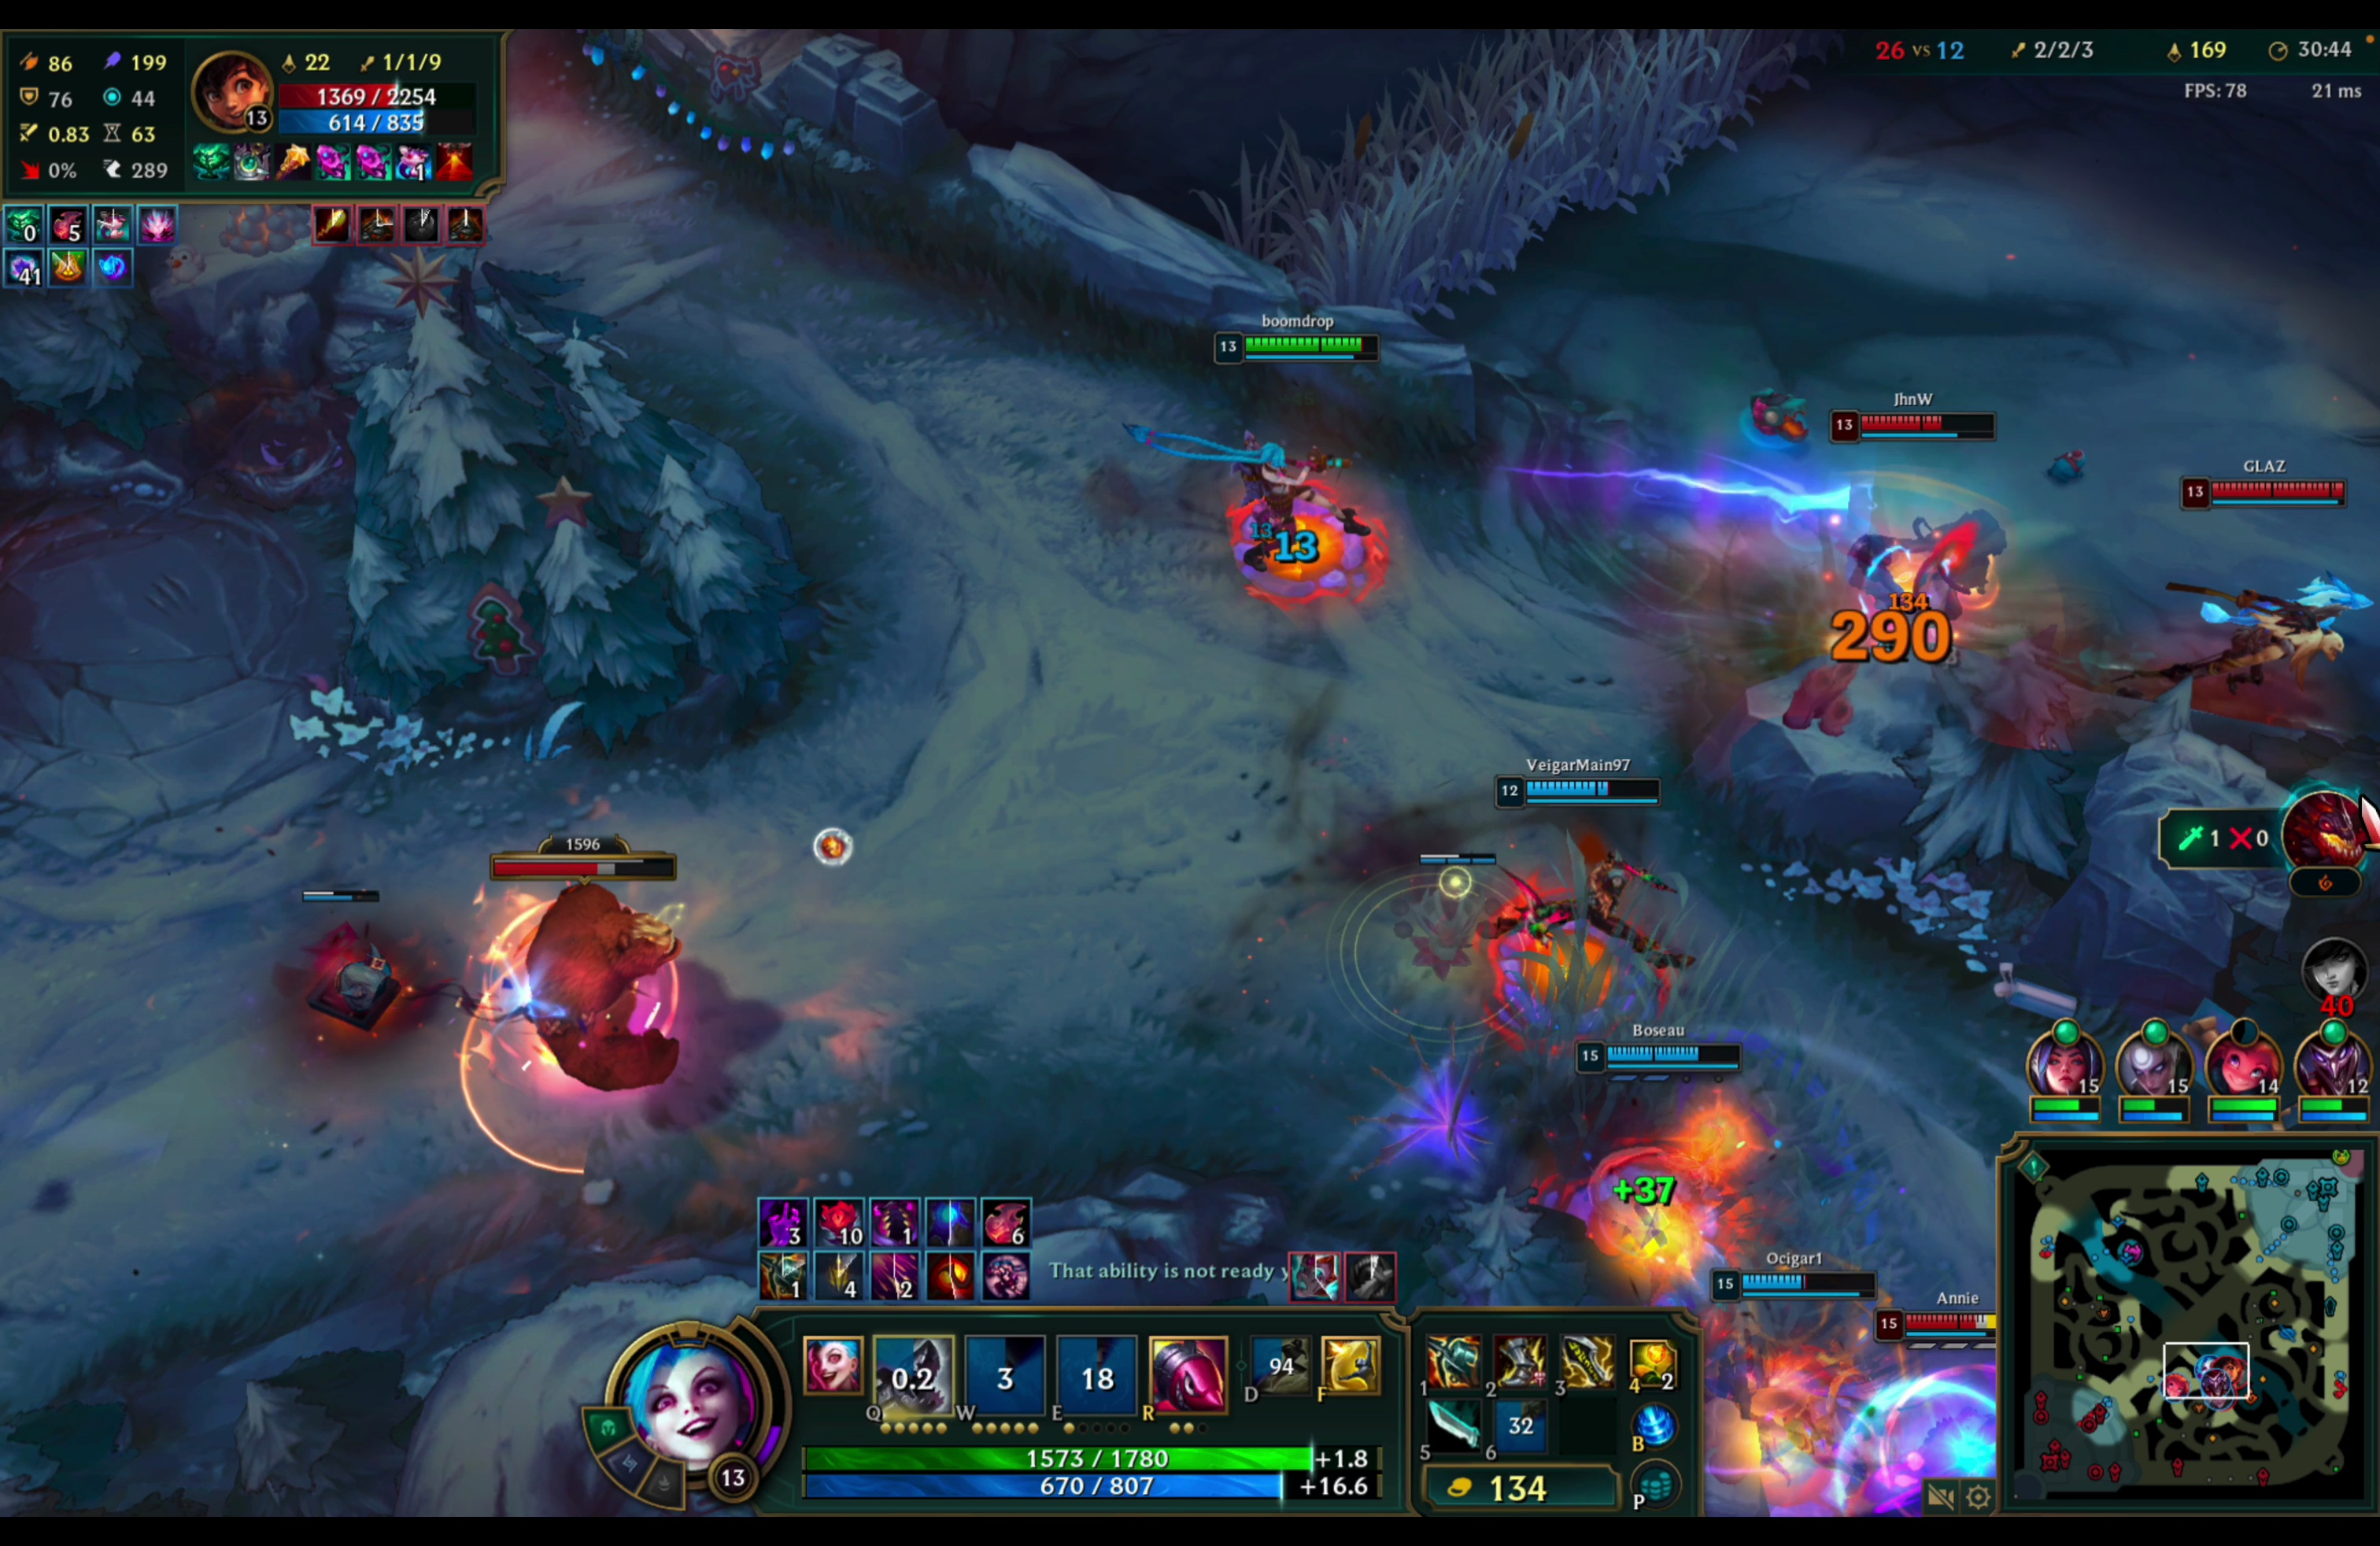JINX_W_PROJECTILE: (1202, 311, 1884, 637)
